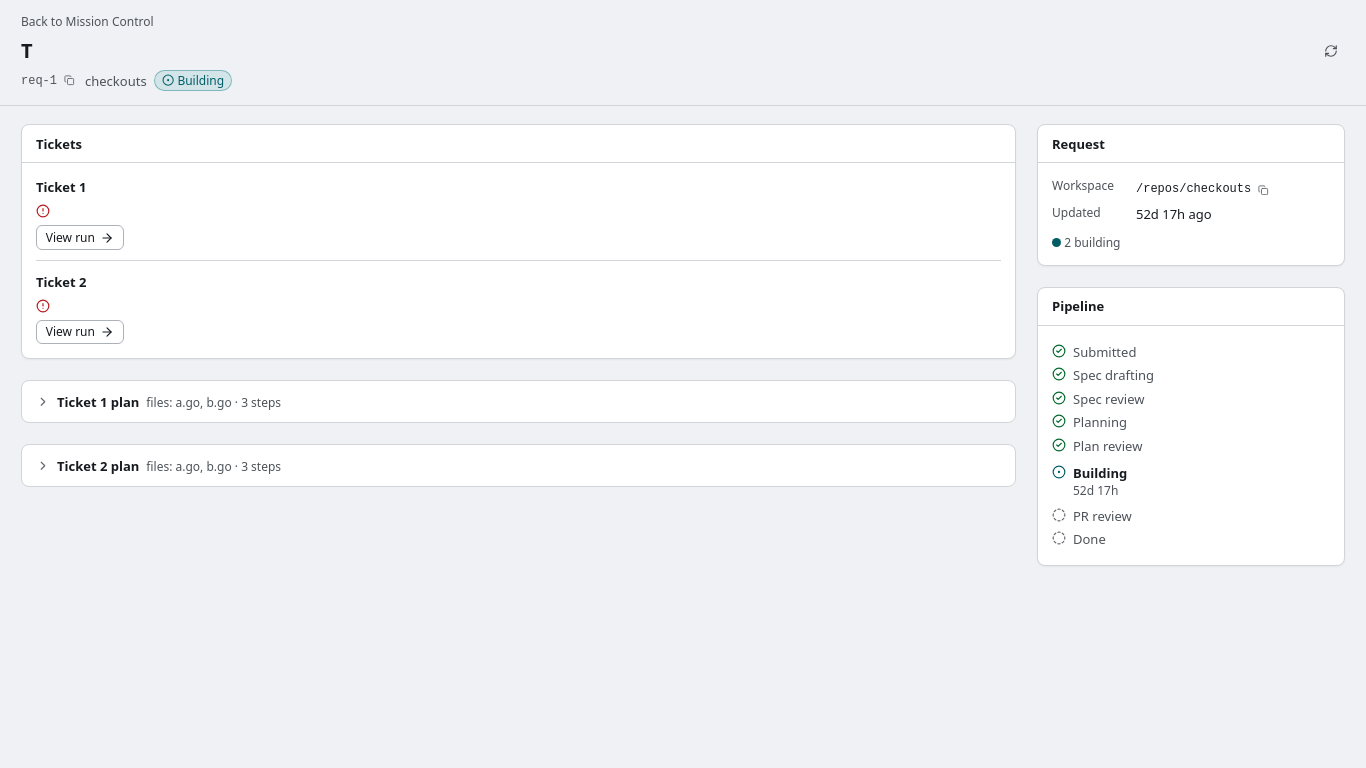
it: later states fold the spec and each plan to one line, expandable in place › each ticket plan is its own closed disclosure naming its files and steps
Expected: the heading "T" is shown, x1=21 y1=37 x2=33 y2=64
Expected: the text "files: a.go, b.go · 3 steps" next to "Ticket 1 plan" is shown, x1=146 y1=394 x2=281 y2=411
Step 1. Click the heading "Ticket 2 plan" → x=98, y=466, box x1=57 y1=456 x2=139 y2=476
(page scrolled)
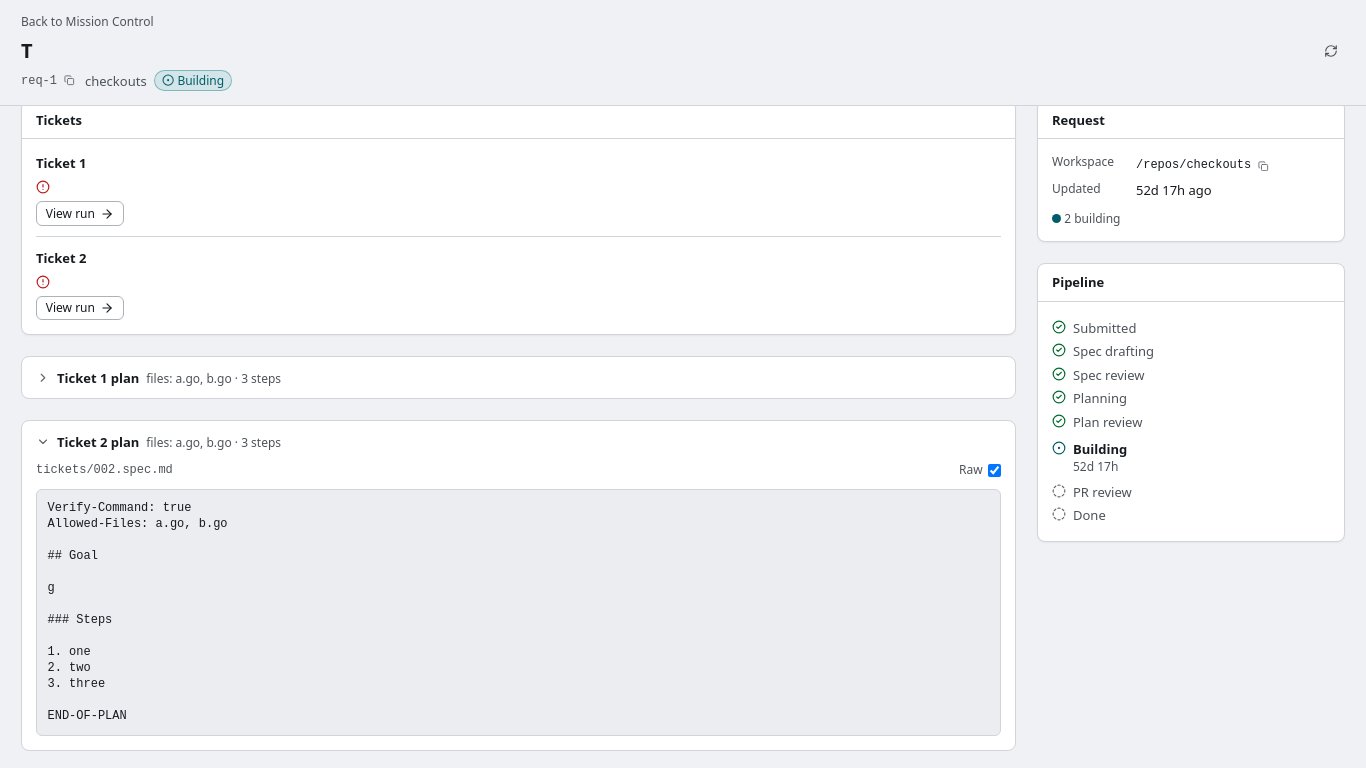
Now the element with test id "content-" shows "END-OF-PLAN", box x1=48 y1=501 x2=228 y2=723
